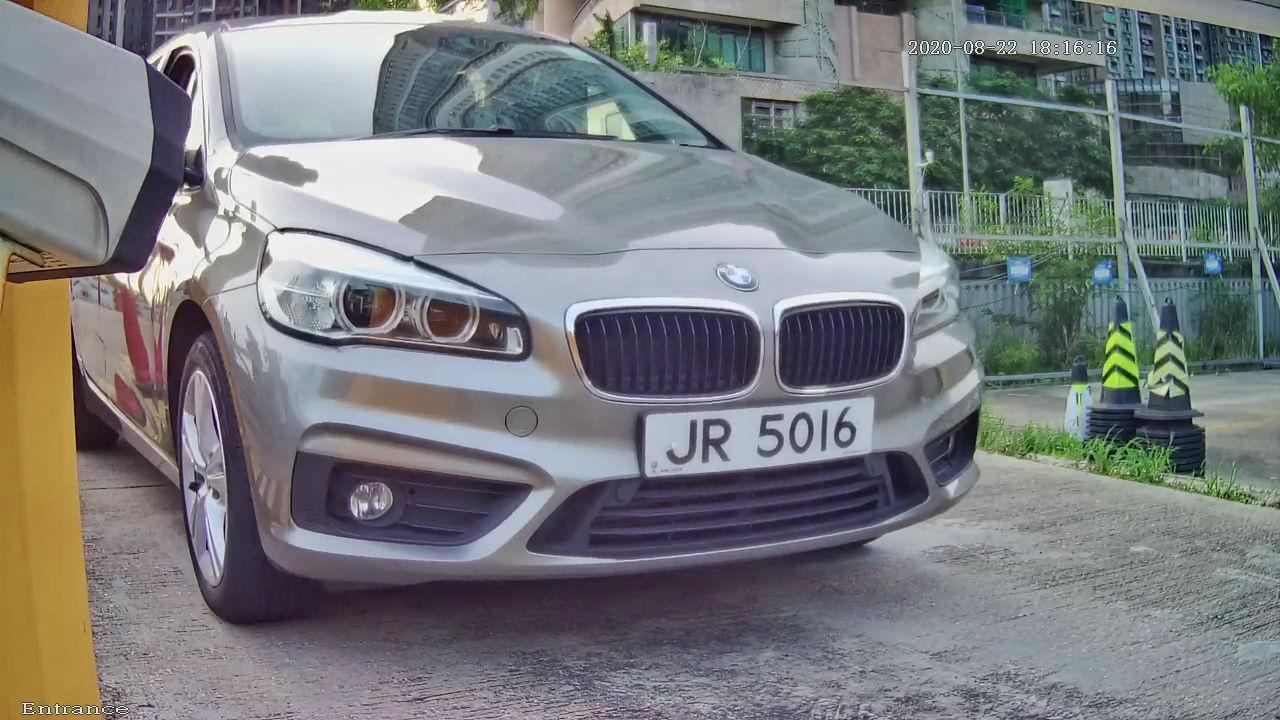Car: (69, 20, 1081, 634)
License Plate: (576, 365, 924, 514)
